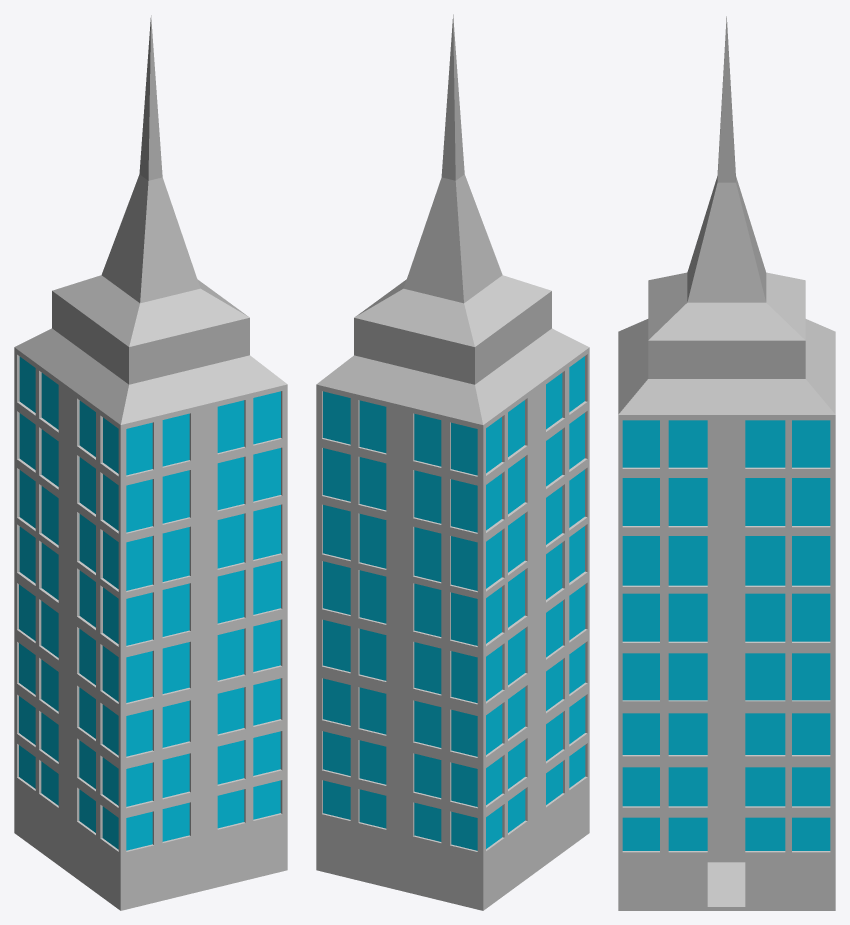
Rendered from largeBuilding.fbx.
3 renders of one model, left to right at view 1: azimuth 30°, elevation 25°; view 2: azimuth 150°, elevation 25°; view 3: azimuth 270°, elevation 25°, orthographic. The views are drawn at different scales.
Parts seen in each view (by area): view 1: Cube; view 2: Cube; view 3: Cube.
Part boxes in pixels (x1,y1,x2,y2): Cube: [14, 15, 287, 910]; Cube: [316, 14, 589, 910]; Cube: [618, 16, 835, 910].
Bounding box in the file's own units: 2311 × 11079 × 2553.
